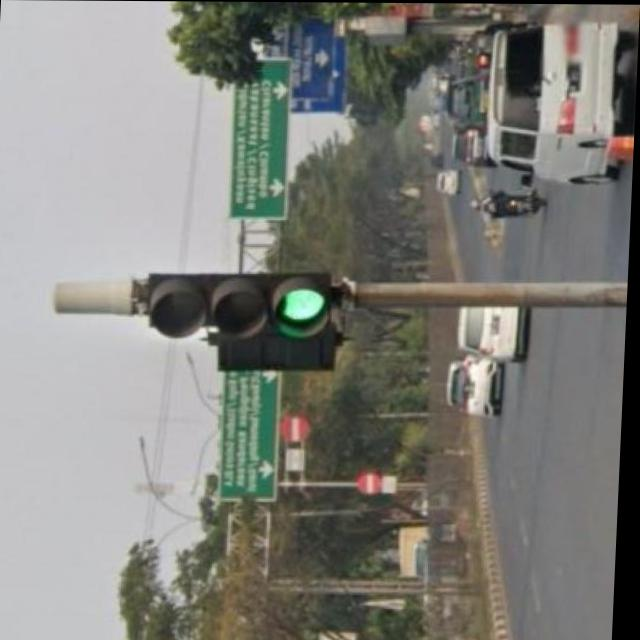green light: (148, 279, 336, 336)
